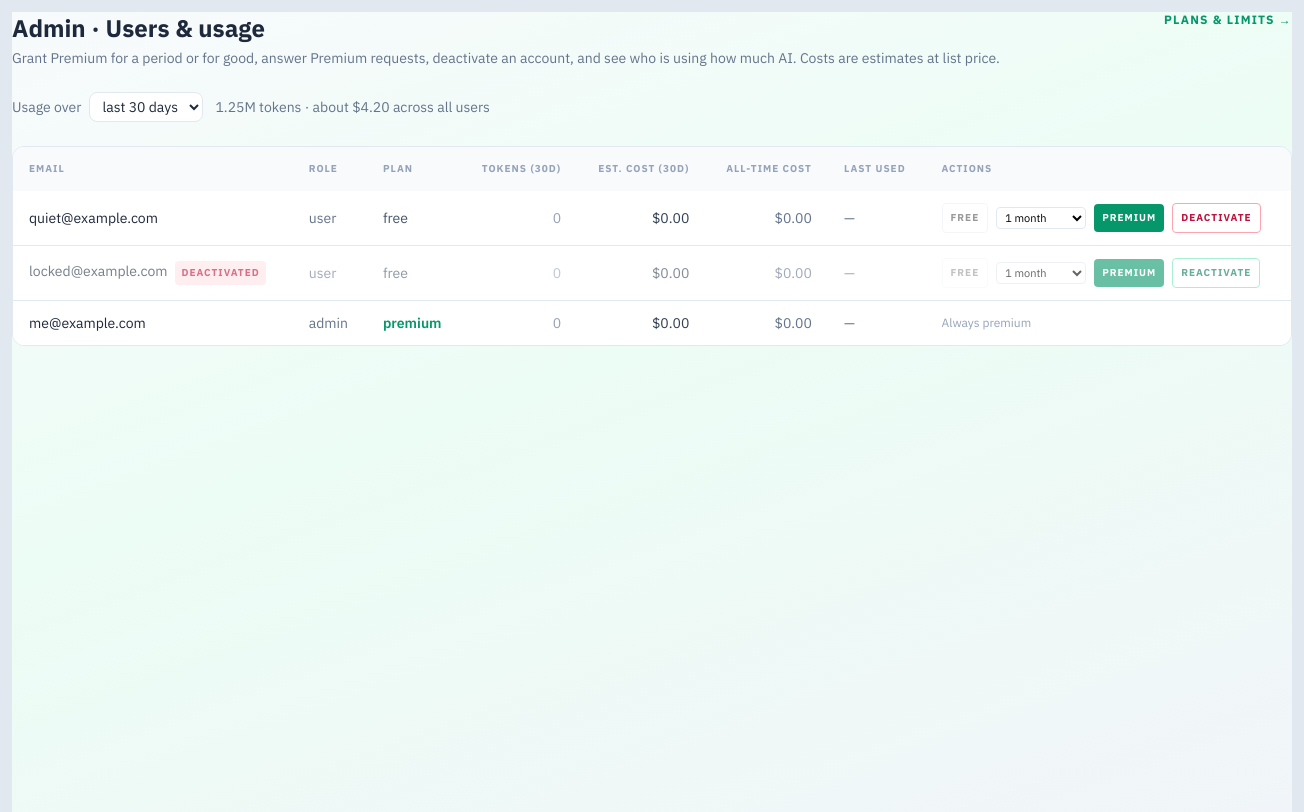
Test: AdminUsersPage deactivation › deactivates an account after confirming, and marks the row
Click the button with aria-label "Deactivate quiet@example.com" at (1216, 218), box [1172,203,1261,233]
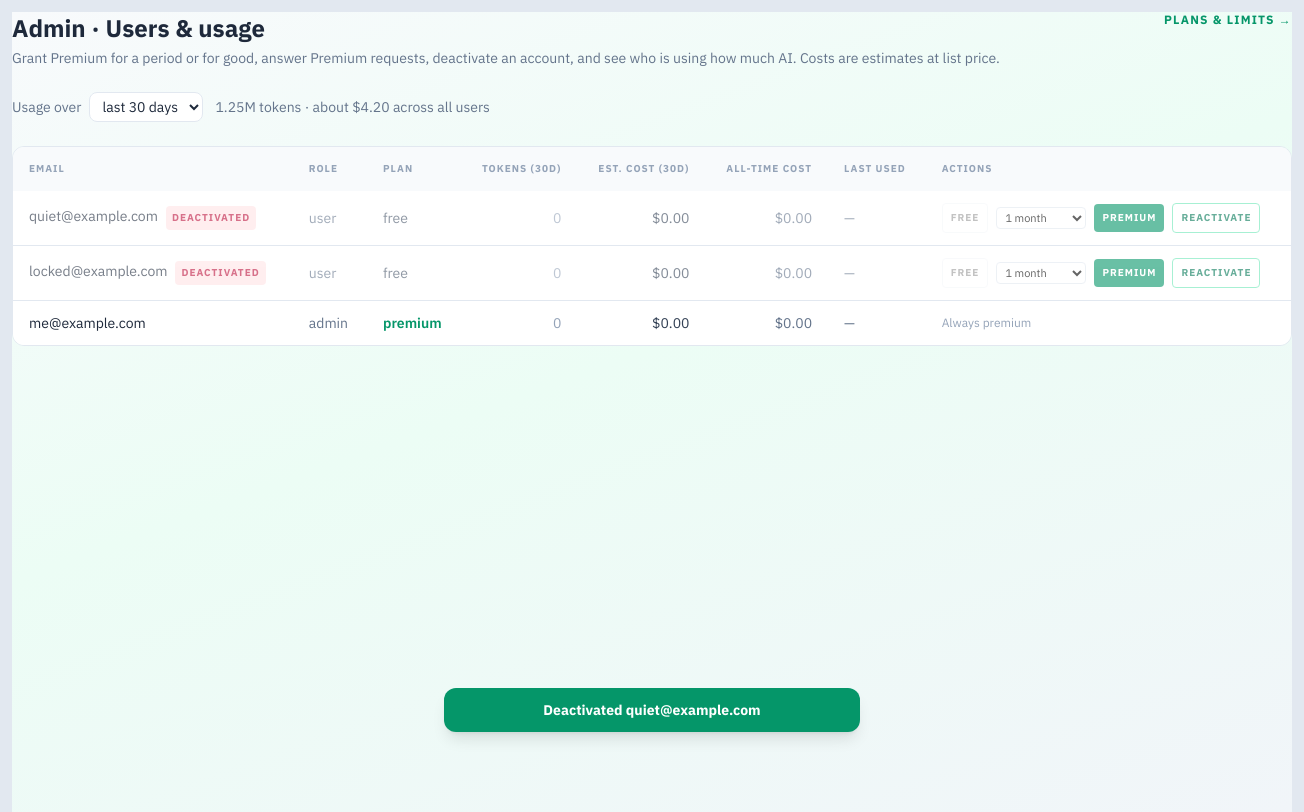
Expected: the 1st text "Deactivated" is shown, [166,206,256,230]
